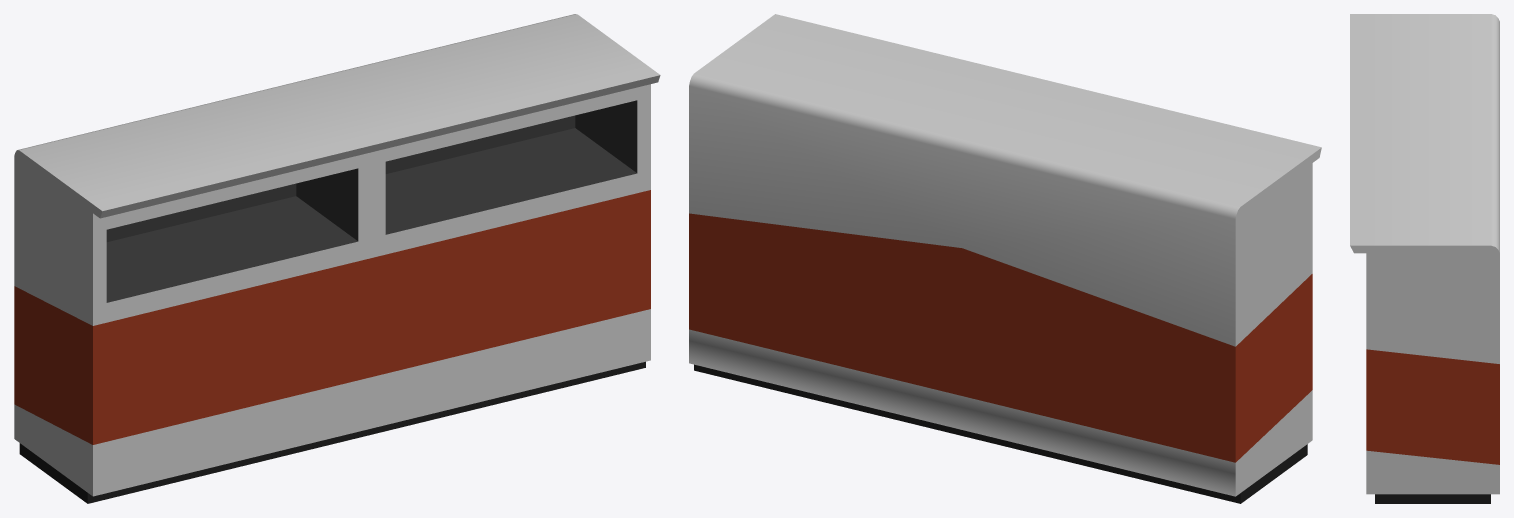
The model's file is desk-2.glb.
The picture shows the model from 3 angles, left to right: view 1: azimuth 30°, elevation 25°; view 2: azimuth 150°, elevation 25°; view 3: azimuth 270°, elevation 25°; orthographic projection. The views are drawn at different scales.
Parts seen in each view (by area): view 1: Desk_2; view 2: Desk_2; view 3: Desk_2.
Boxes of the visible parts, left/top/right/bottom form: Desk_2: left=14, top=14, right=660, bottom=503; Desk_2: left=689, top=14, right=1321, bottom=503; Desk_2: left=1350, top=14, right=1499, bottom=503.
Bounding box in the file's own units: 200 × 104 × 54.67.
1 material, 1 textured.
